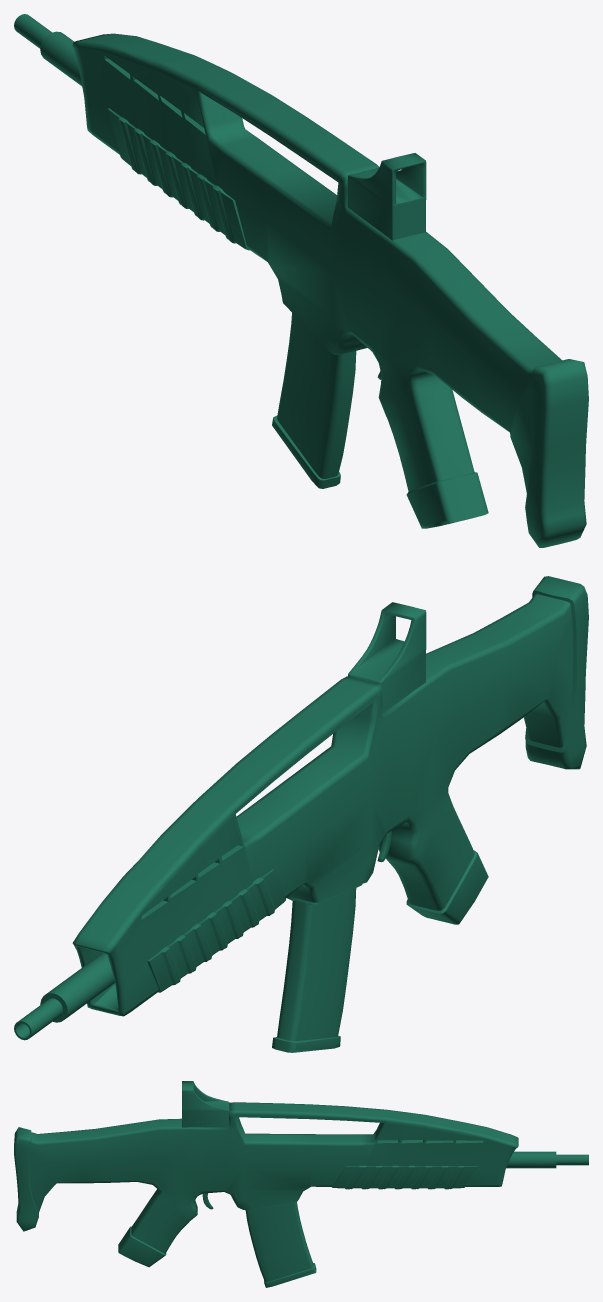
File: NewWeapon.FBX
The picture shows the model from 3 angles, top to bottom: view 1: azimuth 30°, elevation 25°; view 2: azimuth 150°, elevation 25°; view 3: azimuth 270°, elevation 25°; orthographic projection. The views are drawn at different scales.
Visible parts, largest first — view 1: Object001; view 2: Object001; view 3: Object001.
Part boxes in pixels (left/top/right/bottom): Object001: left=14, top=14, right=588, bottom=547; Object001: left=14, top=576, right=588, bottom=1052; Object001: left=14, top=1081, right=588, bottom=1287.
Bounding box in the file's own units: 0.0353 × 0.2751 × 0.7138.
